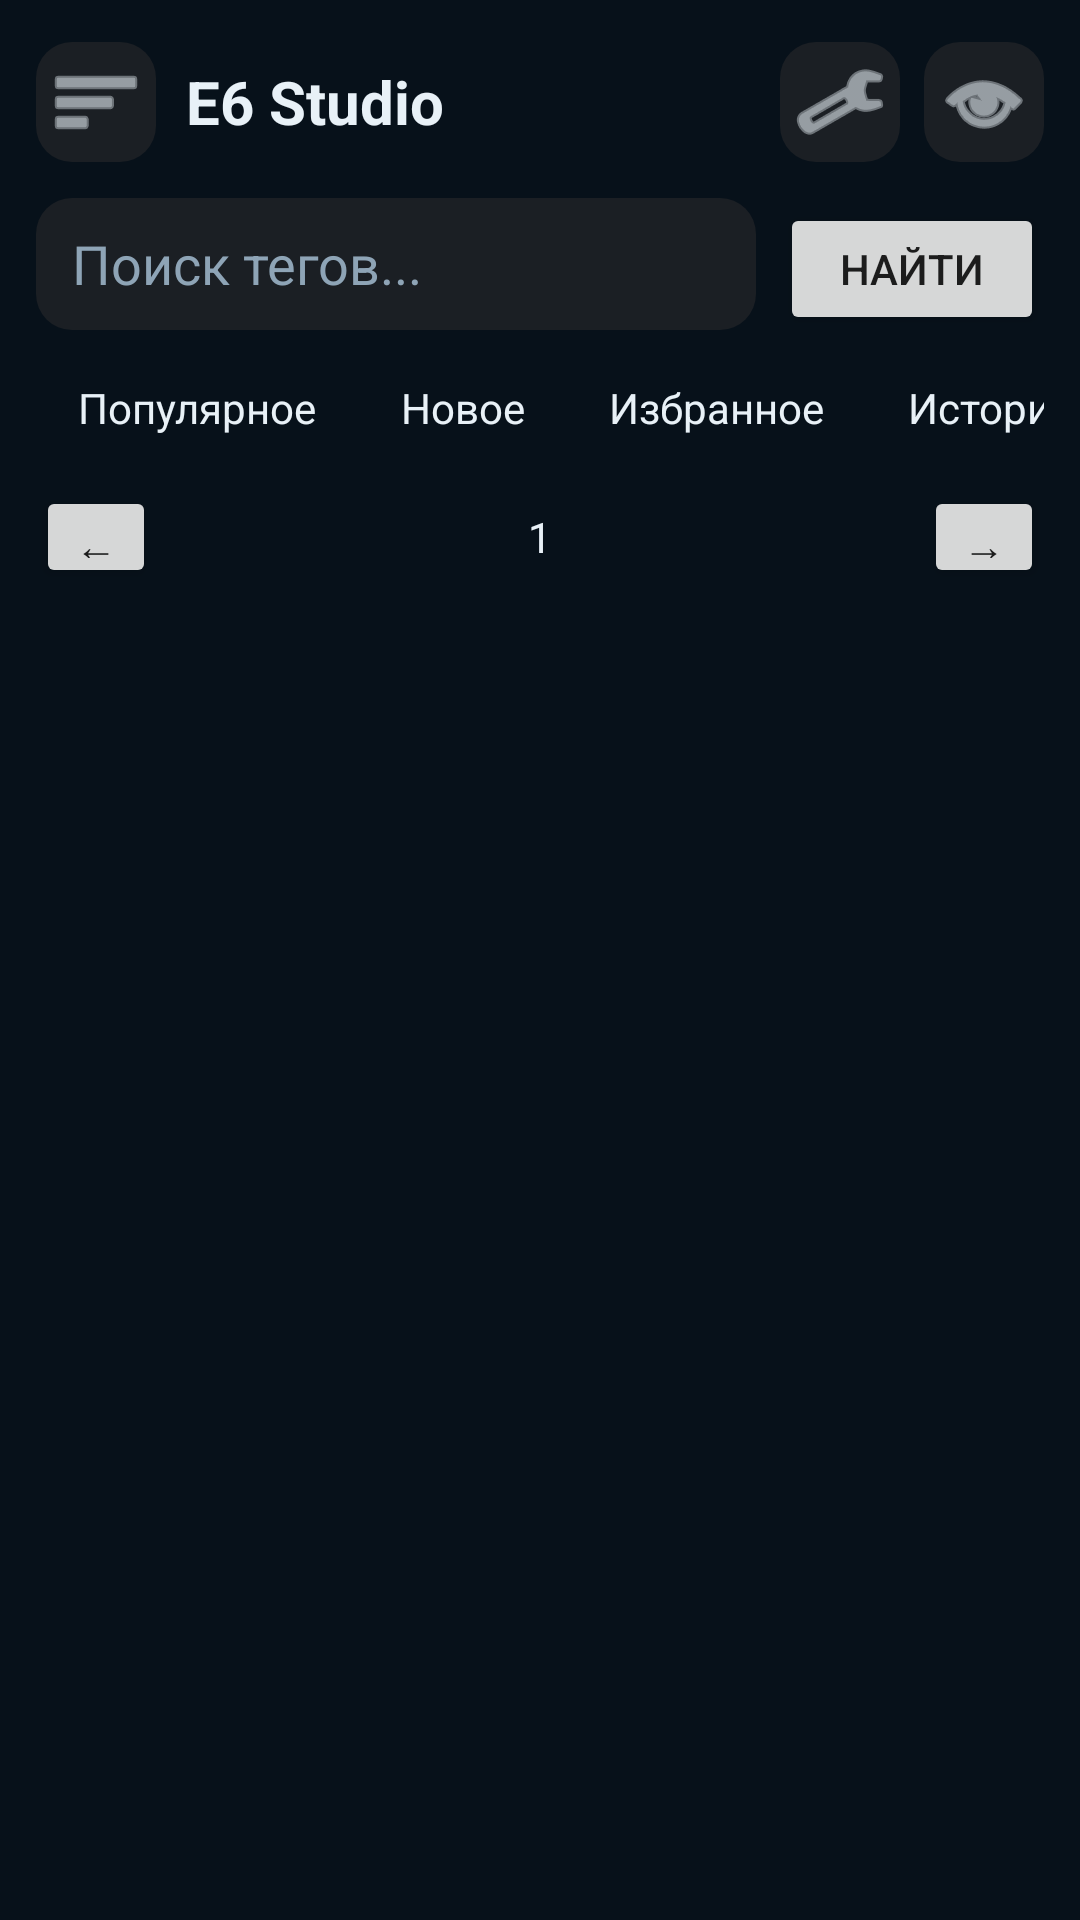

Locate icon controls on the screen. Image size 1080px×1920px, boxes as (x1, y1, x2, y2).
manage: (780, 42, 900, 162)
menu: (54, 75, 138, 130)
view: (945, 80, 1023, 129)
